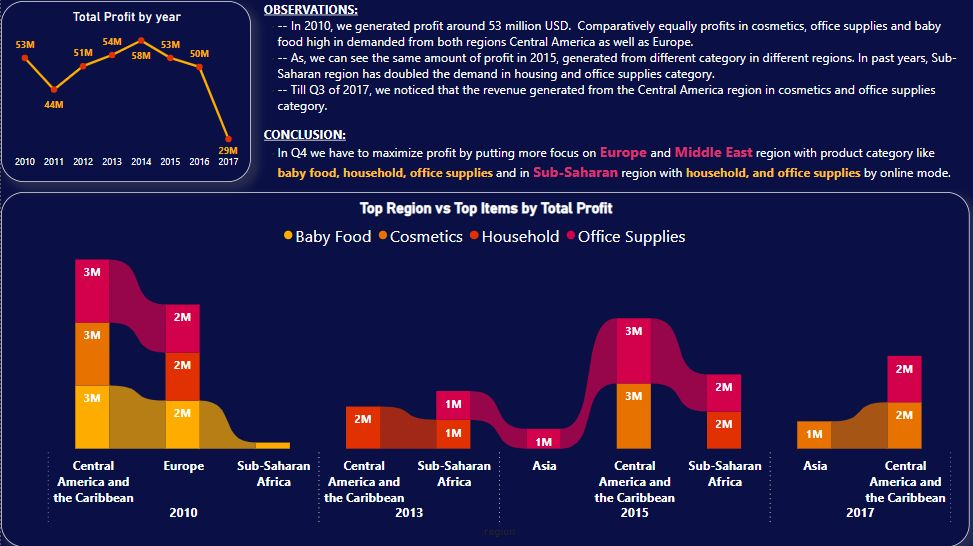

This screenshot's page, from the dashboard's own definition file:
{"tool":"powerbi","page":{"name":"category_sales","canvas":[1280,720],"ordinal":1},"visuals":[{"type":"ribbonChart","title":" Top Region vs Top Items by Total Profit","fields":{"Series":["sales_data.item_type"],"Category":["sales_data.year","sales_data.region"],"Y":["sales_data.total_profit total for item_type"]},"box":[0,255.3,1268.2,465.3],"z":0},{"type":"textbox","box":[339.1,0,929.5,255.3],"z":1000},{"type":"lineChart","title":"Total Profit by year","fields":{"Category":["sales_data.year","sales_data.month"],"Y":["Sum(sales_data.total_profit)"]},"box":[0,5.2,327.3,236.9],"z":2000}]}

Visuals, with their boxes in screenshot pixels (x1, y1, x2, y2), scaled from the page's 1280x720 canvas onto the 973x546 screenshot:
" Top Region vs Top Items by Total Profit" ribbonChart: (x1=0, y1=194, x2=964, y2=545)
textbox: (x1=258, y1=0, x2=964, y2=194)
"Total Profit by year" lineChart: (x1=0, y1=4, x2=249, y2=184)
